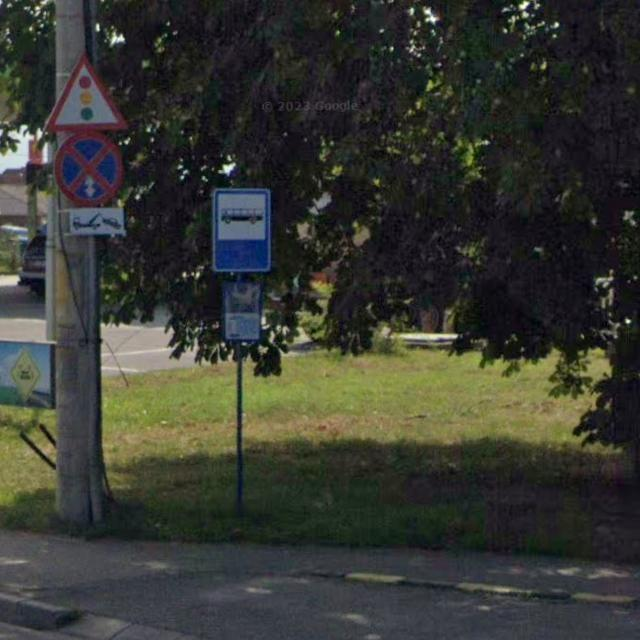forb_waiting: (54, 133, 123, 205)
